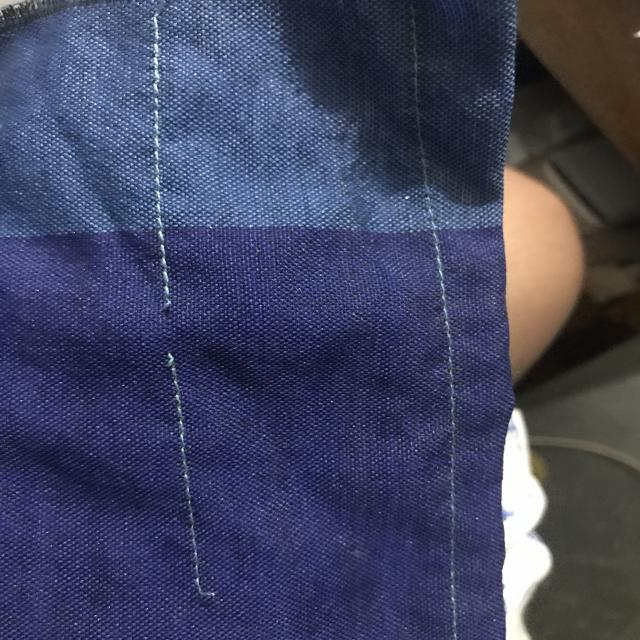broken: (142, 294, 211, 379), (163, 402, 213, 489)
